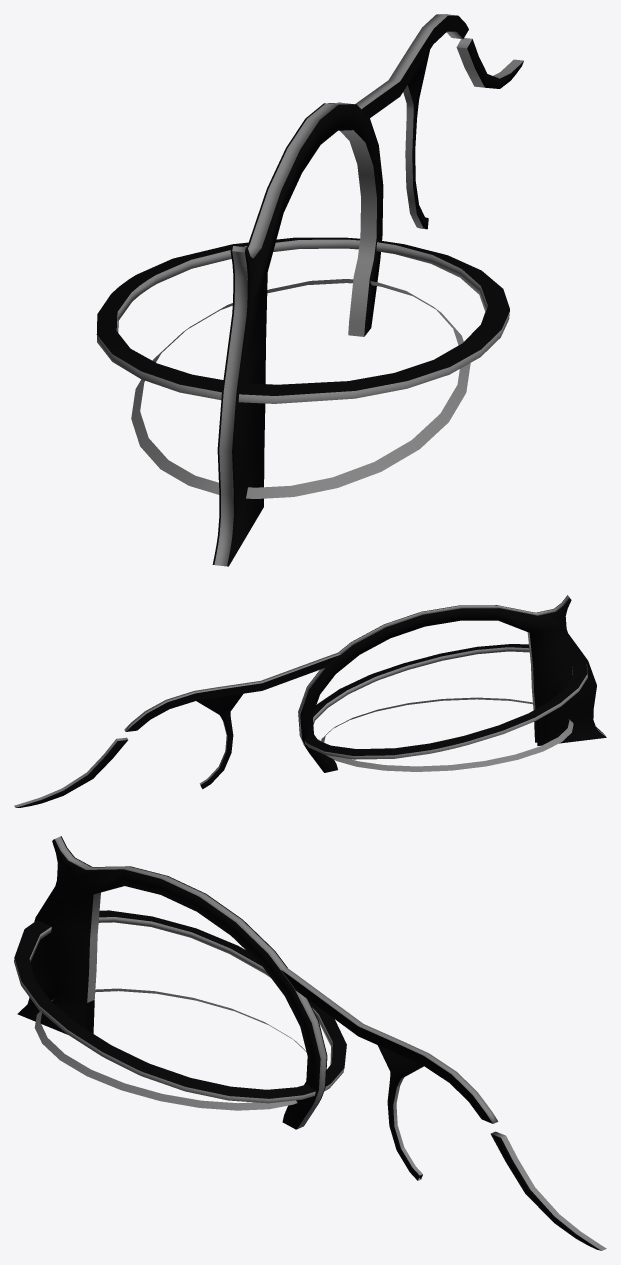
The model's file is Black.fbx.
3 renders of one model, top to bottom at view 1: azimuth 30°, elevation 25°; view 2: azimuth 150°, elevation 25°; view 3: azimuth 270°, elevation 25°, orthographic. The views are drawn at different scales.
Visible parts, largest first — view 1: Black; view 2: Black; view 3: Black.
Boxes of the visible parts, left/top/right/bottom form: Black: left=96, top=14, right=523, bottom=566; Black: left=14, top=595, right=606, bottom=807; Black: left=14, top=836, right=606, bottom=1250.
Size of the model in its own units: 1.01 by 0.3831 by 1.04.
